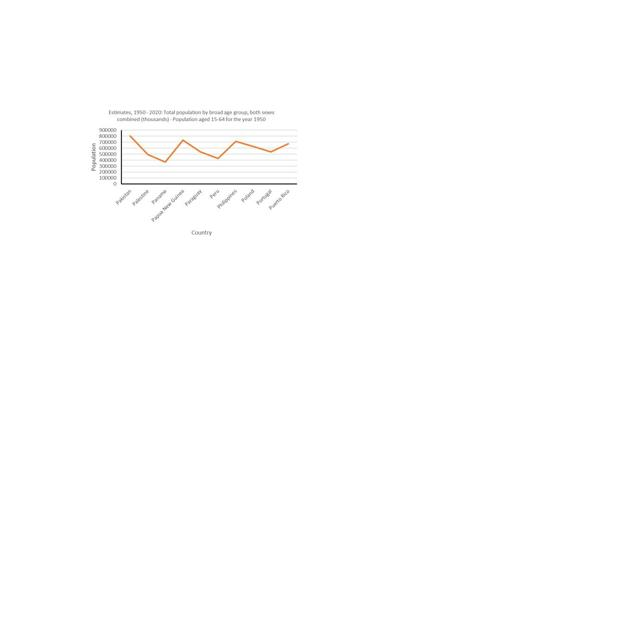Graph: (81, 106, 302, 237)
